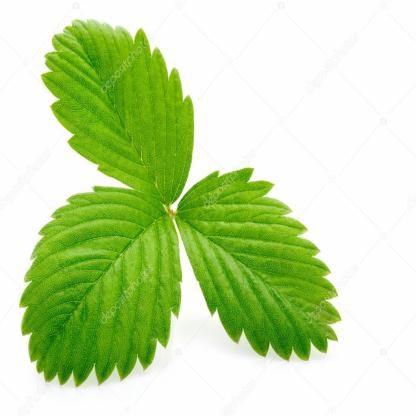Strawberry leaf: (35, 2, 197, 212), (178, 161, 343, 362), (16, 184, 174, 391)
